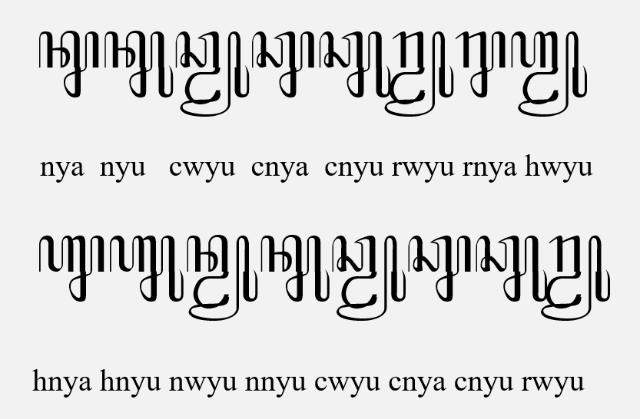cny: (250, 30, 314, 98), (408, 235, 470, 302)
cnyu: (318, 31, 392, 98), (475, 235, 547, 302)
cwyu: (174, 30, 250, 118), (331, 234, 407, 322)
hny: (38, 235, 106, 302)
hnyu: (108, 235, 184, 302)
hwyu: (510, 30, 588, 118)
nny: (38, 30, 98, 98)
nnyu: (104, 27, 174, 94), (260, 235, 330, 302)
nwyu: (186, 234, 258, 322)
rny: (456, 30, 506, 98)
rwyu: (540, 235, 612, 321), (386, 30, 454, 118)
